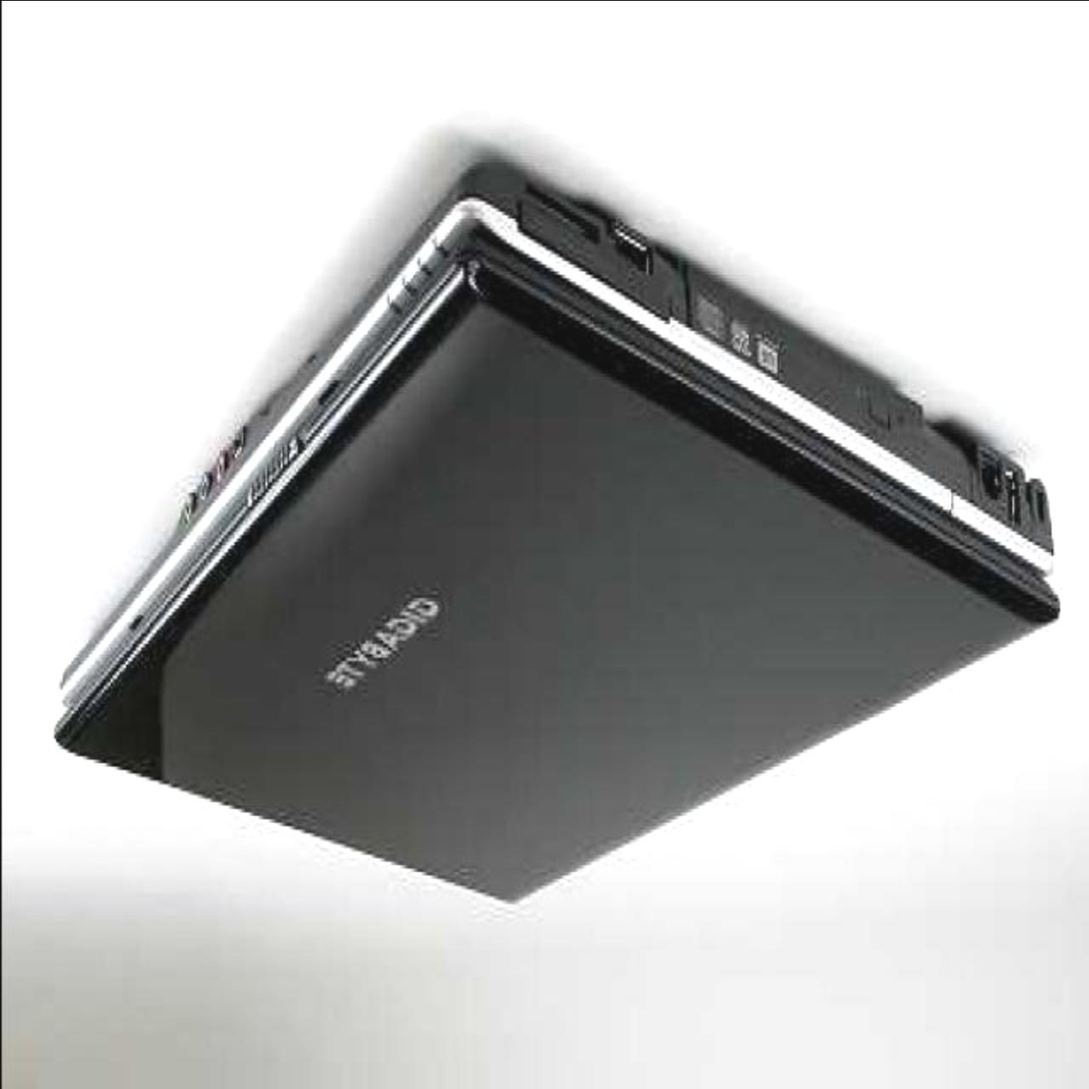laptop: (168, 246, 914, 789)
